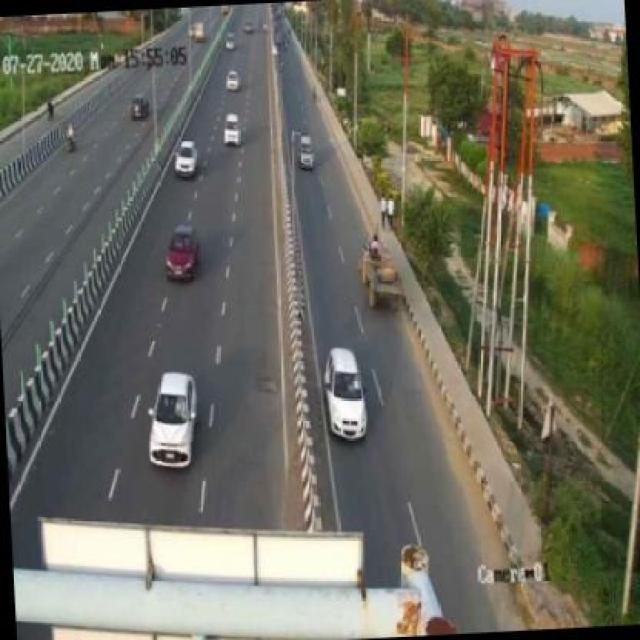car: (136, 362, 204, 469), (318, 343, 371, 446), (160, 220, 205, 288), (294, 128, 318, 172), (220, 106, 245, 148), (174, 140, 200, 178), (124, 89, 150, 123), (220, 64, 242, 94)
